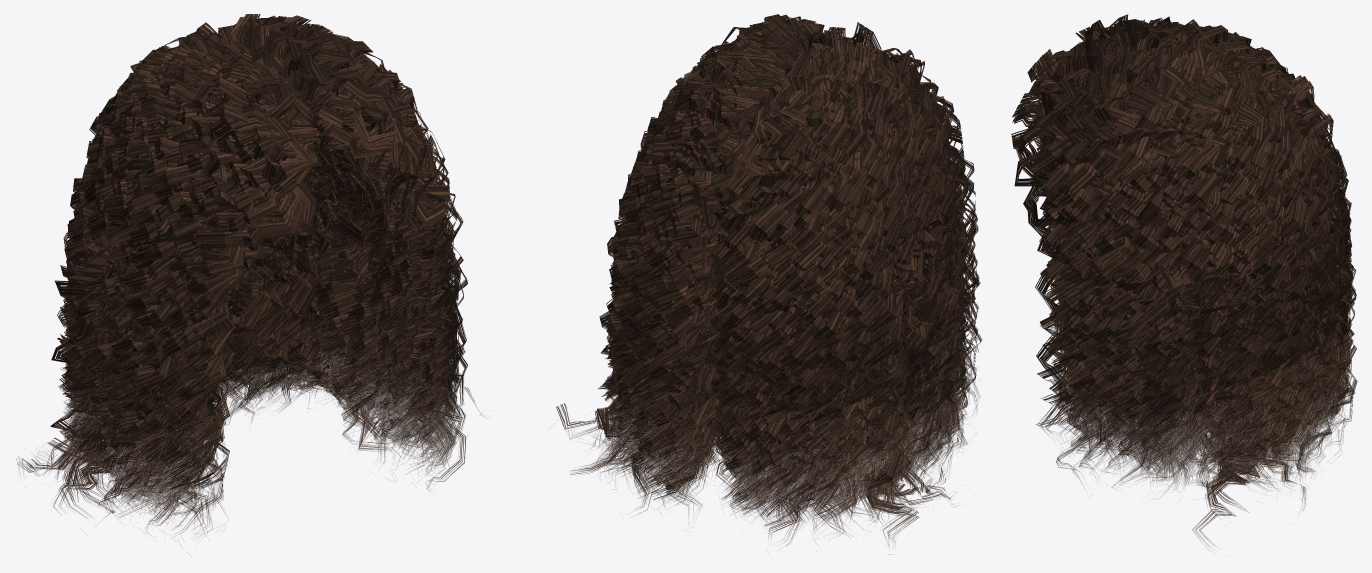
Rendered from long_boucle.glb.
The picture shows the model from 3 angles, left to right: view 1: azimuth 30°, elevation 25°; view 2: azimuth 150°, elevation 25°; view 3: azimuth 270°, elevation 25°; orthographic projection. The views are drawn at different scales.
Parts seen in each view (by area): view 1: MH_coiffure_long_boucle; view 2: MH_coiffure_long_boucle; view 3: MH_coiffure_long_boucle.
Part boxes in pixels (x1,y1,x2,y2): MH_coiffure_long_boucle: [16, 14, 484, 541]; MH_coiffure_long_boucle: [556, 14, 982, 546]; MH_coiffure_long_boucle: [1011, 14, 1357, 549].
Size of the model in its own units: 0.3191 by 0.3228 by 0.2372.
Materials: 1 (1 with a texture image).
